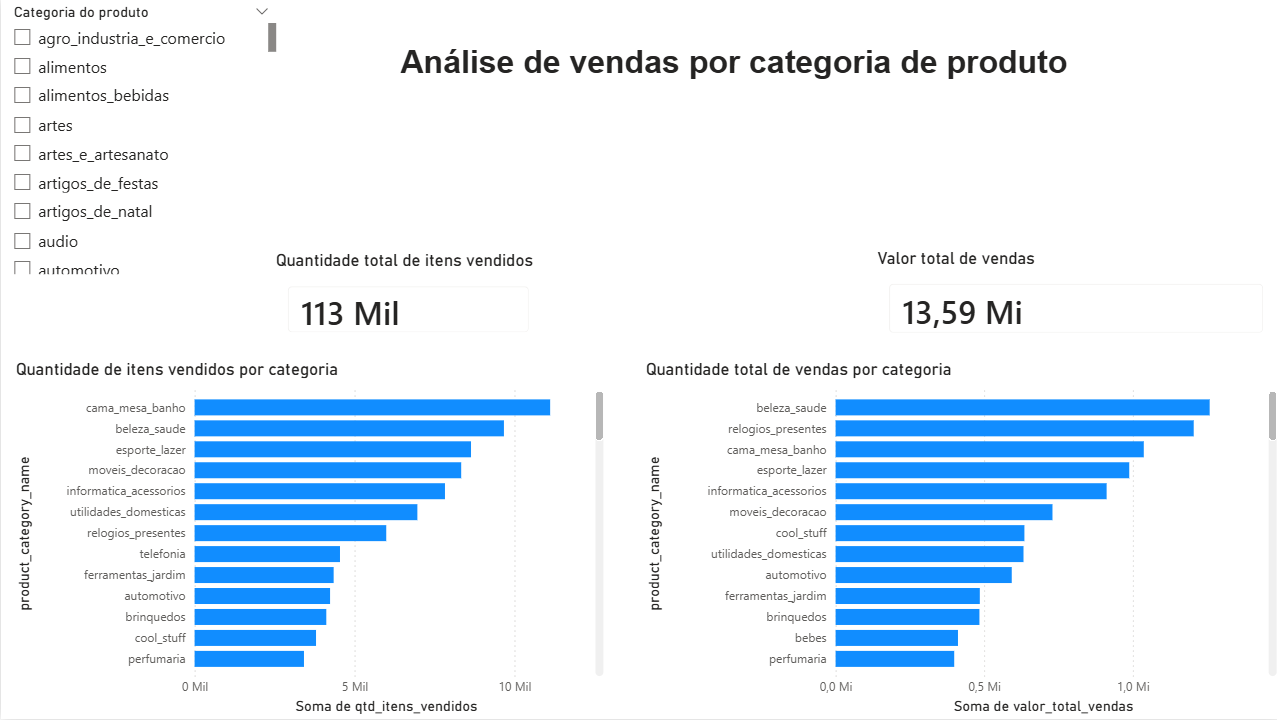

The dashboard page shown, as its layout file describes it:
{"tool":"powerbi","page":{"name":"Página 1","canvas":[1280,720],"ordinal":0},"visuals":[{"type":"slicer","fields":{"Values":["2c38b212-365b-4220-ad70-99eea1d.product_category_name"]},"box":[0,0,280,280],"z":0},{"type":"cardVisual","title":"Quantidade total de itens vendidos","fields":{"Data":["Sum(2c38b212-365b-4220-ad70-99eea1d.qtd_itens_vendidos)"]},"box":[251.4,260,274.3,100],"z":1},{"type":"cardVisual","title":"Valor total de vendas","fields":{"Data":["Sum(2c38b212-365b-4220-ad70-99eea1d.valor_total_vendas)"]},"box":[871.7,260,408.3,101.7],"z":2},{"type":"clusteredBarChart","title":"Quantidade de itens vendidos por categoria","fields":{"Category":["2c38b212-365b-4220-ad70-99eea1d.product_category_name"],"Y":["Sum(2c38b212-365b-4220-ad70-99eea1d.qtd_itens_vendidos)"]},"box":[10.1,360,597.7,360],"z":3},{"type":"barChart","title":"Quantidade total de vendas por categoria","fields":{"Category":["2c38b212-365b-4220-ad70-99eea1d.product_category_name"],"Y":["Sum(2c38b212-365b-4220-ad70-99eea1d.valor_total_vendas)"]},"box":[639.4,360,640.9,360],"z":4},{"type":"textbox","box":[308.3,40,848.3,63.3],"z":5}]}

Visuals, with their boxes on the page's 1280x720 design canvas (x1, y1, x2, y2). These are canvas units, not pixel positions in the 1277x720 screenshot, which may show the page scaled, cropped or inside an application window:
slicer - 2c38b212-365b-4220-ad70-99eea1d.product_category_name: pyautogui.locateOnScreen(0, 0, 280, 280)
"Quantidade total de itens vendidos" cardVisual: pyautogui.locateOnScreen(251, 260, 526, 360)
"Valor total de vendas" cardVisual: pyautogui.locateOnScreen(872, 260, 1280, 362)
"Quantidade de itens vendidos por categoria" clusteredBarChart: pyautogui.locateOnScreen(10, 360, 608, 720)
"Quantidade total de vendas por categoria" barChart: pyautogui.locateOnScreen(639, 360, 1280, 720)
textbox: pyautogui.locateOnScreen(308, 40, 1157, 103)
